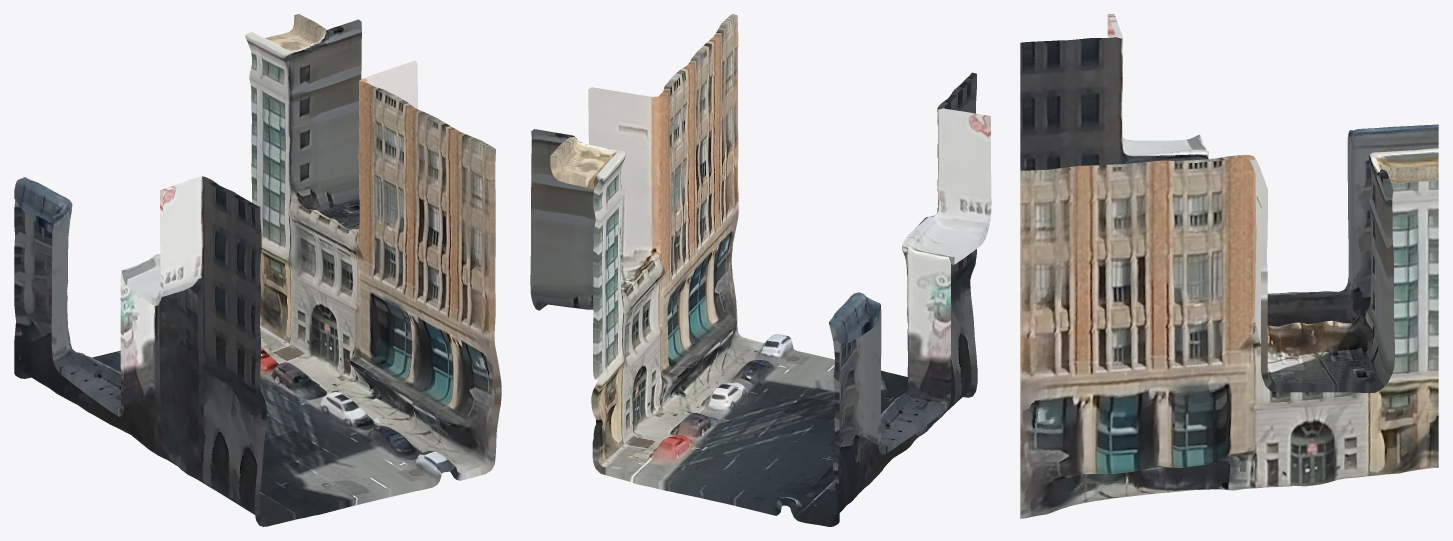
Rendered from z20-167757-405238-h0-yup-uvflip-v3-world.glb.
The picture shows the model from 3 angles, left to right: view 1: azimuth 30°, elevation 25°; view 2: azimuth 150°, elevation 25°; view 3: azimuth 270°, elevation 25°; orthographic projection. The views are drawn at different scales.
Size of the model in its own units: 30.16 by 28.72 by 30.32.
1 material, 1 textured.
